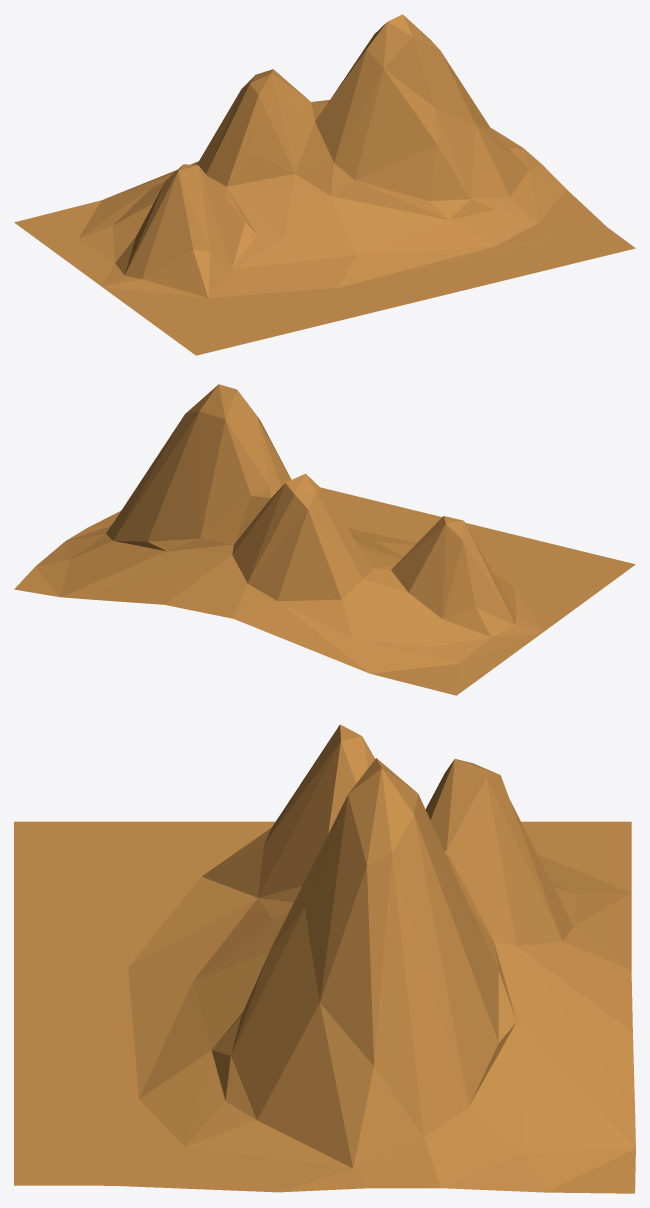
File: background-hill.fbx
The picture shows the model from 3 angles, top to bottom: view 1: azimuth 30°, elevation 25°; view 2: azimuth 150°, elevation 25°; view 3: azimuth 270°, elevation 25°; orthographic projection. The views are drawn at different scales.
Parts seen in each view (by area): view 1: hill; view 2: hill; view 3: hill.
Boxes of the visible parts, x1=… form: hill: x1=14, y1=14, x2=635, y2=355; hill: x1=14, y1=384, x2=635, y2=695; hill: x1=14, y1=724, x2=635, y2=1193.
Size of the model in its own units: 5621 by 2205 by 3939.
